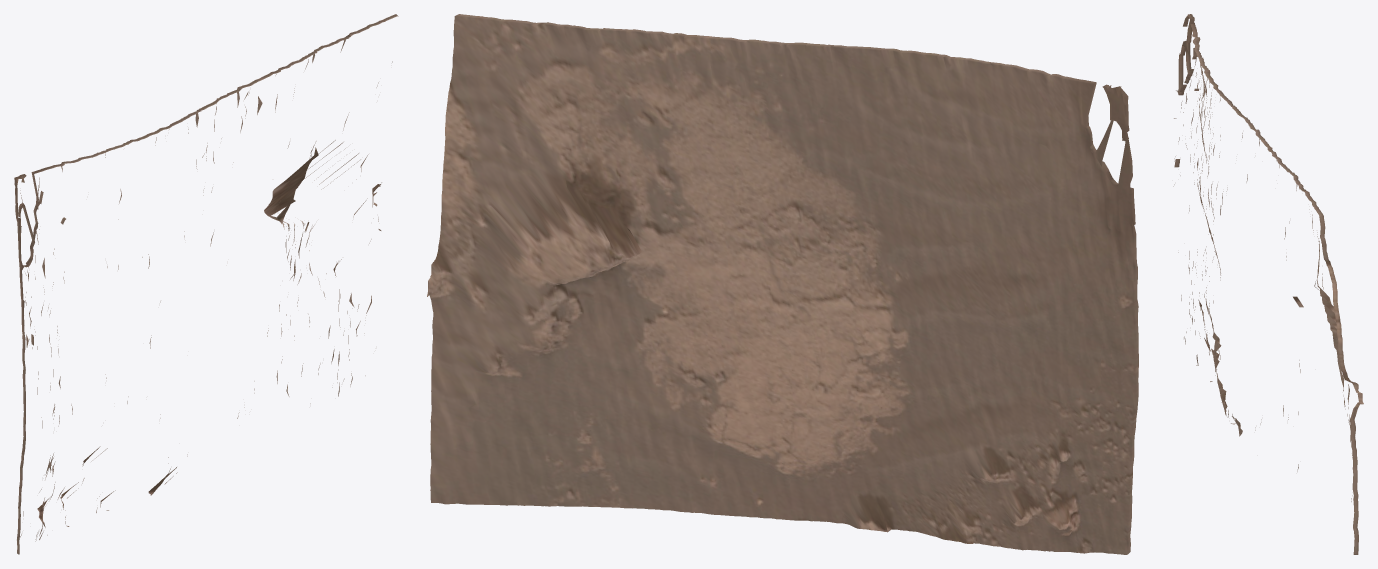
The picture shows the model from 3 angles, left to right: view 1: azimuth 30°, elevation 25°; view 2: azimuth 150°, elevation 25°; view 3: azimuth 270°, elevation 25°; orthographic projection. The views are drawn at different scales.
Size of the model in its own units: 1.04 by 0.8141 by 0.4287.
1 material, 1 textured.
